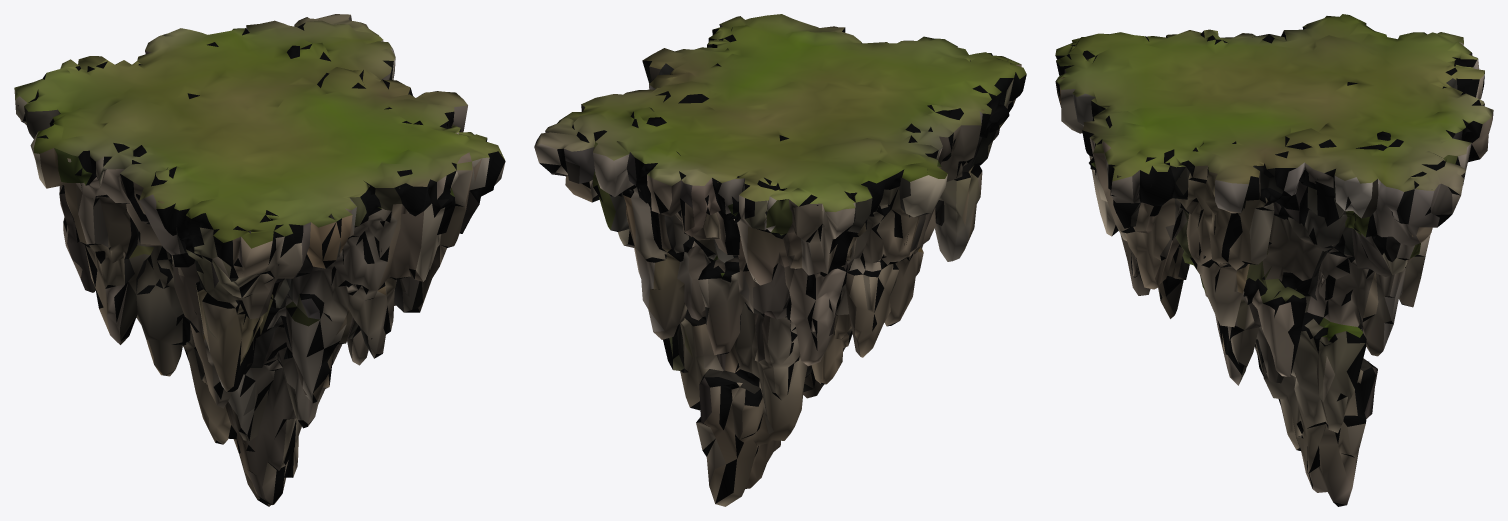
File: island.glb
3 renders of one model, left to right at view 1: azimuth 30°, elevation 25°; view 2: azimuth 150°, elevation 25°; view 3: azimuth 270°, elevation 25°, orthographic. The views are drawn at different scales.
Visible parts, largest first — view 1: island; view 2: island; view 3: island.
Part boxes in pixels (bbox=[...]): island: bbox=[14, 14, 505, 506]; island: bbox=[534, 14, 1026, 506]; island: bbox=[1055, 14, 1493, 506].
Bounding box in the file's own units: 11.2 × 12.04 × 12.01.
Materials: 1 (1 with a texture image).
